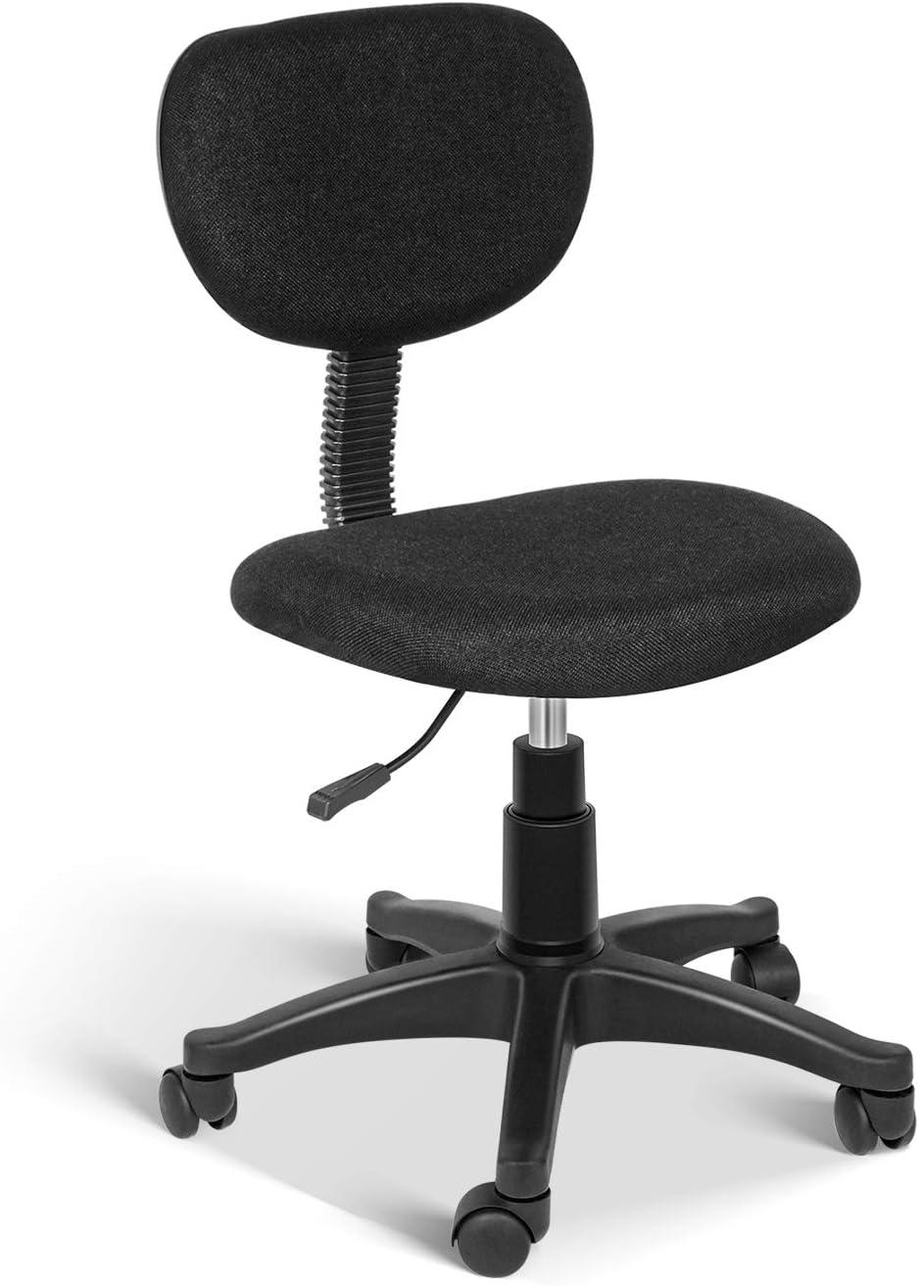chair: (128, 0, 919, 1284)
